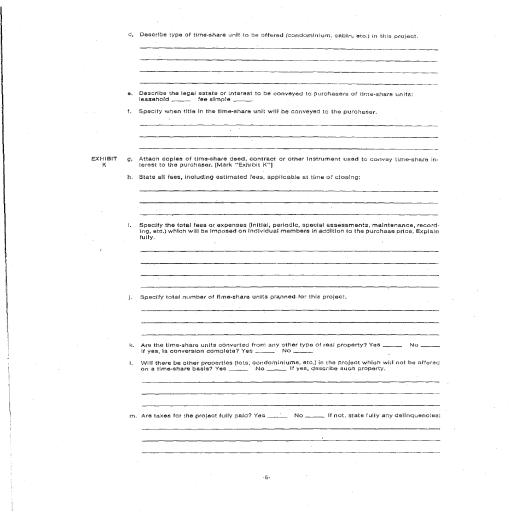check_box: (370, 340, 441, 350), (254, 410, 328, 419), (214, 366, 289, 373), (241, 348, 313, 355)
free_text: (138, 221, 442, 240), (136, 26, 418, 44), (136, 156, 439, 170), (136, 173, 361, 184), (138, 291, 352, 302), (138, 108, 379, 117), (138, 97, 253, 104)
